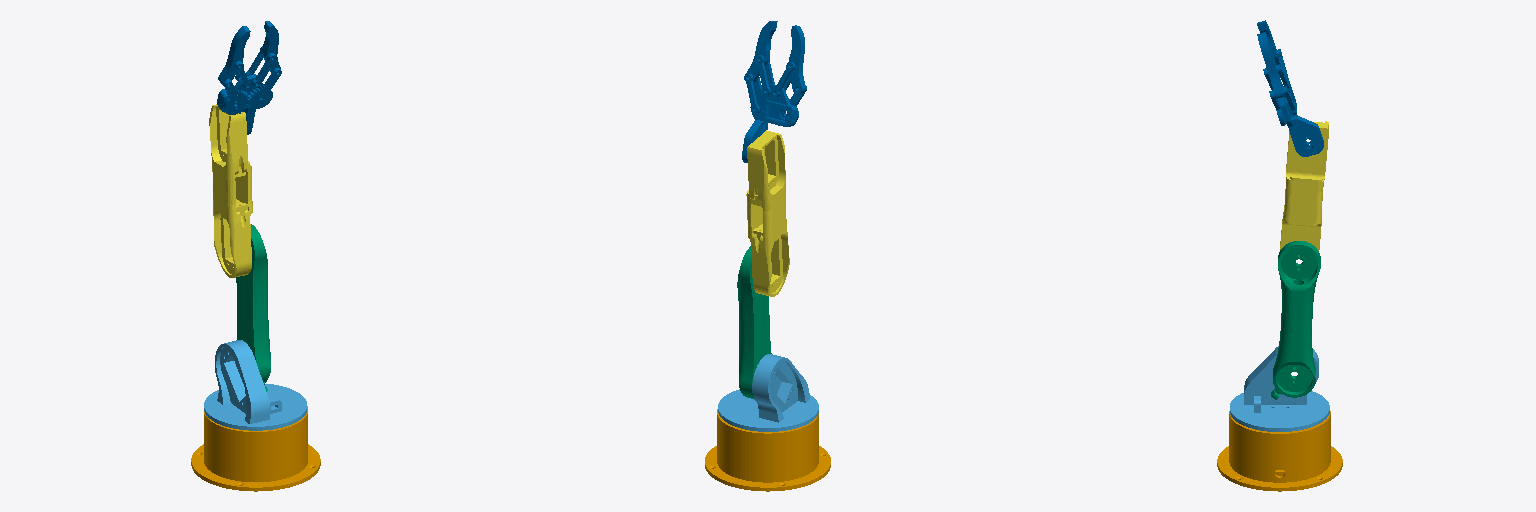
URDF robot description (arduino_robot_arm):
<?xml version="1.0" ?>
<!-- created with Phobos 1.0.1 "Capricious Choutengan" -->
<robot name="arduino_robot_arm">
    <link name="base">
        
<inertial>
            <origin xyz="0 0 0" rpy="0 0 0" />
            <mass value="0.01" />
            <inertia ixx="0.001" ixy="0" ixz="0" iyy="0.001" iyz="0" izz="0.001" />
        </inertial>

        <visual name="Base">
            <origin xyz="0 0 0" rpy="1.5708 0 0" />
            <geometry>
                <mesh filename="package://robot_arm_pkg/meshes/stl/Base.stl" scale="0.00098 0.00098 0.00098" />
            </geometry>
        </visual>
        <collision name="Base">
            <origin xyz="-0.0029 0.00016 0.01165" rpy="3.14159 0 0" />
            <geometry>
                <cylinder radius="0.0592" length="0.05469" />
            </geometry>
        </collision>
    </link>
    <link name="waist">
        
<inertial>
            <origin xyz="0 0 0" rpy="0 0 0" />
            <mass value="0.001" />
            <inertia ixx="0.001" ixy="0" ixz="0" iyy="0.001" iyz="0" izz="0.001" />
        </inertial>

        <visual name="Waist">
            <origin xyz="0 0 0" rpy="1.5708 0 0" />
            <geometry>
                <mesh filename="package://robot_arm_pkg/meshes/stl/Waist.stl" scale="0.00098 0.00098 0.00098" />
            </geometry>
        </visual>
        <collision name="Waist.000">
            <origin xyz="8e-05 -8e-05 0.00021" rpy="1.5708 0 0" />
            <geometry>
                <mesh filename="package://robot_arm_pkg/meshes/stl/Waist.001.stl" scale="0.00391 0.00391 0.00391" />
            </geometry>
        </collision>
    </link>
    <link name="arm1">
        
<inertial>
            <origin xyz="0 0 0" rpy="0 0 0" />
            <mass value="0.001" />
            <inertia ixx="0.001" ixy="0" ixz="0" iyy="0.001" iyz="0" izz="0.001" />
        </inertial>

        <visual name="Arm 01">
            <origin xyz="0 0 0" rpy="0 0 0" />
            <geometry>
                <mesh filename="package://robot_arm_pkg/meshes/stl/Arm 01.stl" scale="0.00098 0.00098 0.00098" />
            </geometry>
        </visual>
        <collision name="Arm 01">
            <origin xyz="-0.00032 0.05624 0.00439" rpy="0 0 0" />
            <geometry>
                <box size="0.04221 0.16277 0.02051" />
            </geometry>
        </collision>
    </link>
    <link name="arm2">
        
<inertial>
            <origin xyz="0 0 0" rpy="0 0 0" />
            <mass value="0.001" />
            <inertia ixx="0.001" ixy="0" ixz="0" iyy="0.001" iyz="0" izz="0.001" />
        </inertial>

        <visual name="Arm 02">
            <origin xyz="0 0 0" rpy="-1.48894 -1.57209 1.57068" />
            <geometry>
                <mesh filename="package://robot_arm_pkg/meshes/stl/Arm 02.stl" scale="0.00098 0.00098 0.00098" />
            </geometry>
        </visual>
        <visual name="Cube">
            <origin xyz="-0.00255 0.0366 0.00196" rpy="-0.0887 1.57209 -1.57119" />
            <geometry>
                <mesh filename="package://robot_arm_pkg/meshes/stl/Cube.002.stl" scale="0.01172 0.01953 0.00781" />
            </geometry>
        </visual>
        <collision name="Arm 02">
            <origin xyz="-0.00436 0.05687 0.01375" rpy="-1.4891 -1.57209 1.57084" />
            <geometry>
                <box size="0.02681 0.16397 0.0384" />
            </geometry>
        </collision>
    </link>
    <link name="gripper">
        
<inertial>
            <origin xyz="0 0 0" rpy="0 0 0" />
            <mass value="0.001" />
            <inertia ixx="0.001" ixy="0" ixz="0" iyy="0.001" iyz="0" izz="0.001" />
        </inertial>

        <visual name="Gripper">
            <origin xyz="0 0 0" rpy="0.60119 -1.56847 -1.57014" />
            <geometry>
                <mesh filename="package://robot_arm_pkg/meshes/stl/Gripper.stl" scale="0.00391 0.00391 0.00391" />
            </geometry>
        </visual>
        <collision name="Gripper.000">
            <origin xyz="0.00024 -0.00025 0.00033" rpy="0.60128 -1.56847 -1.57014" />
            <geometry>
                <mesh filename="package://robot_arm_pkg/meshes/stl/Gripper.001.stl" scale="0.00391 0.00391 0.00391" />
            </geometry>
        </collision>
    </link>
    <joint name="base_joint" type="revolute">
        <origin xyz="-0.00345 -1e-05 0.04449" rpy="0 0 0" />
        <parent link="base" />
        <child link="waist" />
        <axis xyz="0 0 1.0" />
        <limit lower="-1.571" upper="1.571" effort="1000.0" velocity="1.0" />
    </joint>
    <joint name="shoulder" type="revolute">
        <origin xyz="0.00396 0.01369 0.03521" rpy="1.5708 0.03778 1.5708" />
        <parent link="waist" />
        <child link="arm1" />
        <axis xyz="0 0 1.0" />
        <limit lower="-1.571" upper="1.571" effort="1000.0" velocity="1.0" />
    </joint>
    <joint name="elbow" type="revolute">
        <origin xyz="-7e-05 0.11689 -0.00792" rpy="-0.0013 -3.14159 0.03778" />
        <parent link="arm1" />
        <child link="arm2" />
        <axis xyz="0 0 1.0" />
        <limit lower="-1.57" upper="1.57" effort="1000.0" velocity="1.0" />
    </joint>
    <joint name="wrist" type="revolute">
        <origin xyz="-0.00922 0.12639 -0.00514" rpy="3.14056 0 0" />
        <parent link="arm2" />
        <child link="gripper" />
        <axis xyz="0 0 1.0" />
        <limit lower="-1.57" upper="1.57" effort="1000.0" velocity="1.0" />
    </joint>
    
<transmission name="trans_base_joint">
        <type>transmission_interface/SimpleTransmission</type>
        <joint name="base_joint">
            <hardwareInterface>hardware_interface/PositionJointInterface</hardwareInterface>
        </joint>
        <actuator name="base_joint_motor">
            <hardwareInterface>hardware_interface/PositionJointInterface</hardwareInterface>
            <mechanicalReduction>1</mechanicalReduction>
        </actuator>
    </transmission>
    <transmission name="trans_shoulder">
        <type>transmission_interface/SimpleTransmission</type>
        <joint name="shoulder">
            <hardwareInterface>hardware_interface/PositionJointInterface</hardwareInterface>
        </joint>
        <actuator name="shoulder_motor">
            <hardwareInterface>hardware_interface/PositionJointInterface</hardwareInterface>
            <mechanicalReduction>1</mechanicalReduction>
        </actuator>
    </transmission>
    <transmission name="trans_elbow">
        <type>transmission_interface/SimpleTransmission</type>
        <joint name="elbow">
            <hardwareInterface>hardware_interface/PositionJointInterface</hardwareInterface>
        </joint>
        <actuator name="elbow_motor">
            <hardwareInterface>hardware_interface/PositionJointInterface</hardwareInterface>
            <mechanicalReduction>1</mechanicalReduction>
        </actuator>
    </transmission>
    <transmission name="trans_wrist">
        <type>transmission_interface/SimpleTransmission</type>
        <joint name="wrist">
            <hardwareInterface>hardware_interface/PositionJointInterface</hardwareInterface>
        </joint>
        <actuator name="wrist_motor">
            <hardwareInterface>hardware_interface/PositionJointInterface</hardwareInterface>
            <mechanicalReduction>1</mechanicalReduction>
        </actuator>
    </transmission>
    <gazebo>
        <plugin name="gazebo_ros_control" filename="libgazebo_ros_control.so">
            <robotNamespace>/</robotNamespace>
        </plugin>
    </gazebo>
</robot>

--- Facts derived from the render (not from the file) ---
The picture shows the robot from 3 angles, left to right: view 1: azimuth 30°, elevation 25°; view 2: azimuth 150°, elevation 25°; view 3: azimuth 270°, elevation 25°; orthographic projection.
Model arduino_robot_arm with 5 links and 4 joints (4 revolute), rooted at base, posed all joints at 0.
Links seen in each view (by area): view 1: base, arm2, waist, gripper, arm1; view 2: base, arm2, waist, gripper, arm1; view 3: base, arm1, waist, arm2, gripper.
Link boxes in pixels (bbox=[...]): base: bbox=[191, 406, 320, 491]; arm2: bbox=[209, 104, 252, 277]; waist: bbox=[204, 340, 306, 430]; gripper: bbox=[217, 21, 281, 134]; arm1: bbox=[236, 224, 270, 391]; base: bbox=[705, 409, 830, 491]; arm2: bbox=[746, 130, 789, 296]; waist: bbox=[718, 354, 818, 431]; gripper: bbox=[742, 21, 806, 162]; arm1: bbox=[737, 246, 771, 398]; base: bbox=[1217, 411, 1342, 491]; arm1: bbox=[1271, 241, 1320, 399]; waist: bbox=[1230, 346, 1329, 431]; arm2: bbox=[1280, 121, 1328, 250]; gripper: bbox=[1257, 20, 1323, 156].
Size in the robot's own frame: 0.1188 by 0.1188 by 0.4545 metres.
Meshes: 6 distinct files referenced, 5 mesh visuals loaded (5 binary STL); not drawn: 1 (reference not matched to a file when rendering).